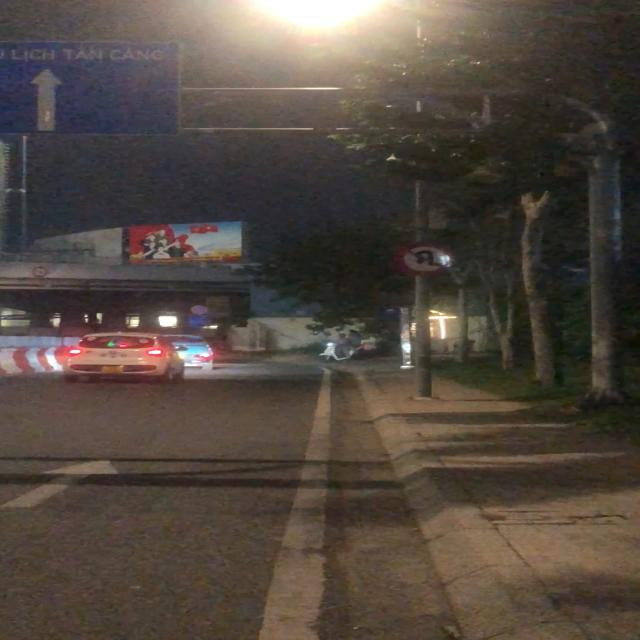Bien bao cam quay dau xe: (388, 240, 461, 278)
